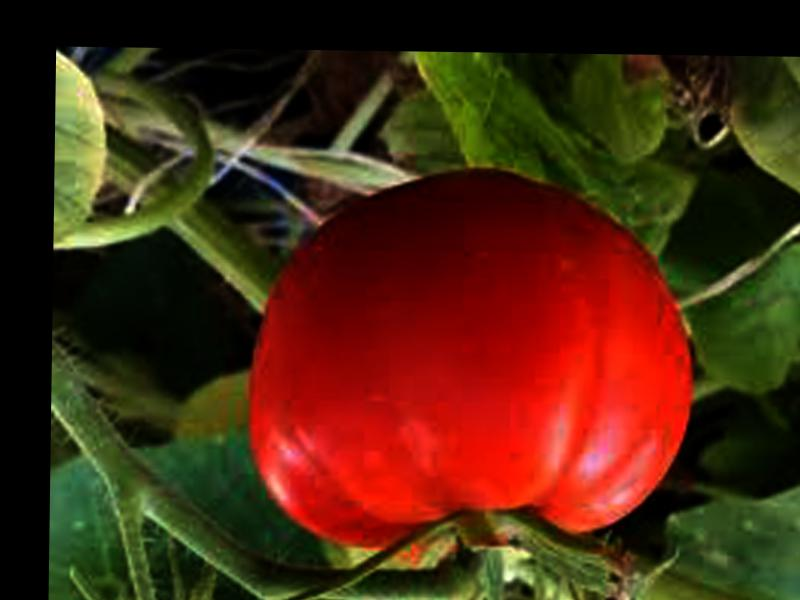Tomato: (243, 170, 695, 551)
